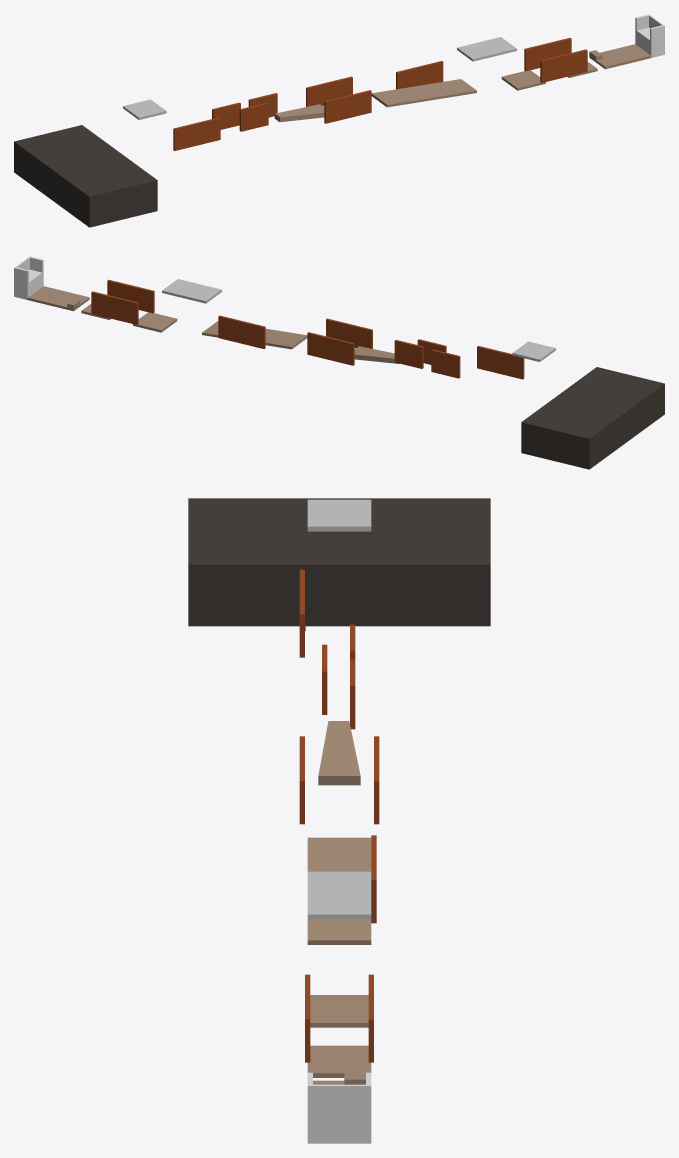
The picture shows the model from 3 angles, top to bottom: view 1: azimuth 30°, elevation 25°; view 2: azimuth 150°, elevation 25°; view 3: azimuth 270°, elevation 25°; orthographic projection. The views are drawn at different scales.
Visible parts, largest first — view 1: 0stair4.002, 4tutorialClear, 1Wirewall2.001, 2leftwall, 1Wirewall2, 1Wirewall1.001, 1Wirewall1, 2rightwall, 3wireactionCeiling.001, 1ground, 2walltowall2, 2ground.001 (+5 smaller); view 2: 0stair4.002, 2rightwall, 1Wirewall1, 1Wirewall1.001, 1Wirewall2.001, 1Wirewall2, 2leftwall, 3wireactionCeiling.001, 1ground, 4tutorialClear, 2walltowall2.001, 2walltowall1 (+5 smaller); view 3: 0stair4.002, 4tutorialClear, 3wireactionCeiling.001, 0start_ground, 2ground.001, 3wireactionCeiling.002, 3wireaction, 2ground, 0wall2.
Part boxes in pixels (<box>): 0stair4.002: <box>14,125,157,227</box>; 4tutorialClear: <box>371,79,476,107</box>; 1Wirewall2.001: <box>173,117,220,150</box>; 2leftwall: <box>540,49,587,82</box>; 1Wirewall2: <box>324,90,371,123</box>; 1Wirewall1.001: <box>396,61,443,89</box>; 1Wirewall1: <box>306,76,352,106</box>; 2rightwall: <box>524,37,571,71</box>; 3wireactionCeiling.001: <box>457,37,516,61</box>; 1ground: <box>589,44,651,69</box>; 2walltowall2: <box>239,102,268,131</box>; 2ground.001: <box>274,104,324,122</box>; 0stair4.002: <box>521,367,664,469</box>; 2rightwall: <box>91,291,138,324</box>; 1Wirewall1: <box>307,332,354,365</box>; 1Wirewall1.001: <box>218,315,265,348</box>; 1Wirewall2.001: <box>477,346,524,379</box>; 1Wirewall2: <box>326,318,372,348</box>; 2leftwall: <box>107,279,154,313</box>; 3wireactionCeiling.001: <box>162,279,221,303</box>; 1ground: <box>27,286,89,311</box>; 4tutorialClear: <box>202,321,307,349</box>; 2walltowall2.001: <box>431,349,460,378</box>; 2walltowall1: <box>394,340,423,368</box>; 0stair4.002: <box>188,498,490,626</box>; 4tutorialClear: <box>307,837,371,944</box>; 3wireactionCeiling.001: <box>307,871,371,919</box>; 0start_ground: <box>307,1110,371,1143</box>; 2ground.001: <box>318,721,360,785</box>; 3wireactionCeiling.002: <box>307,499,371,531</box>; 3wireaction: <box>310,995,368,1027</box>; 2ground: <box>307,1045,371,1077</box>; 0wall2: <box>307,1084,371,1109</box>.
Bounding box in the file's own units: 2635 × 286 × 570.
